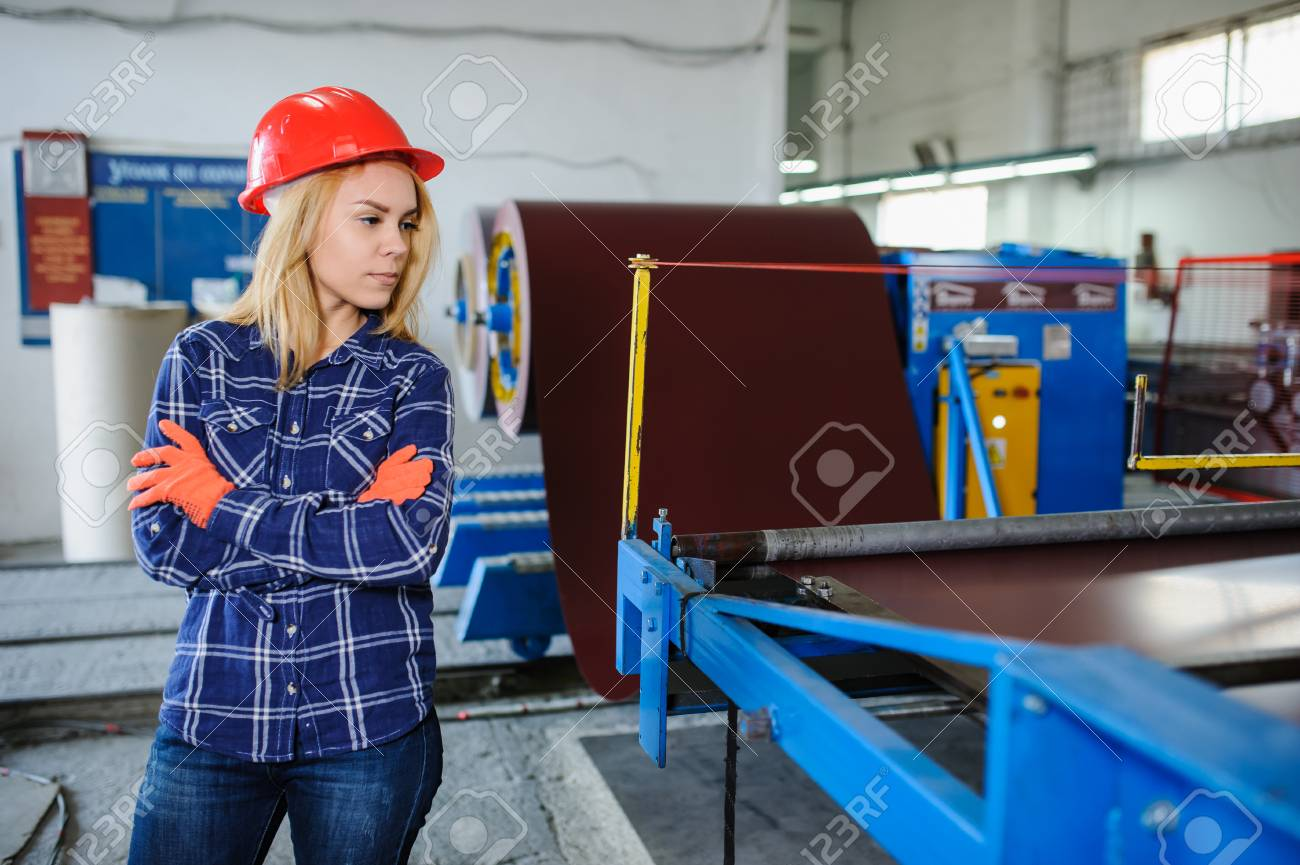Person_wearing_helmet: (232, 71, 447, 231)
